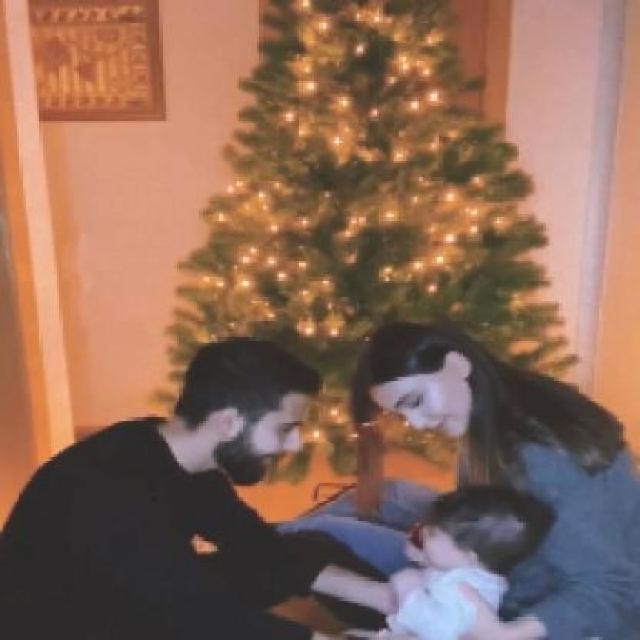child: (377, 485, 560, 638)
